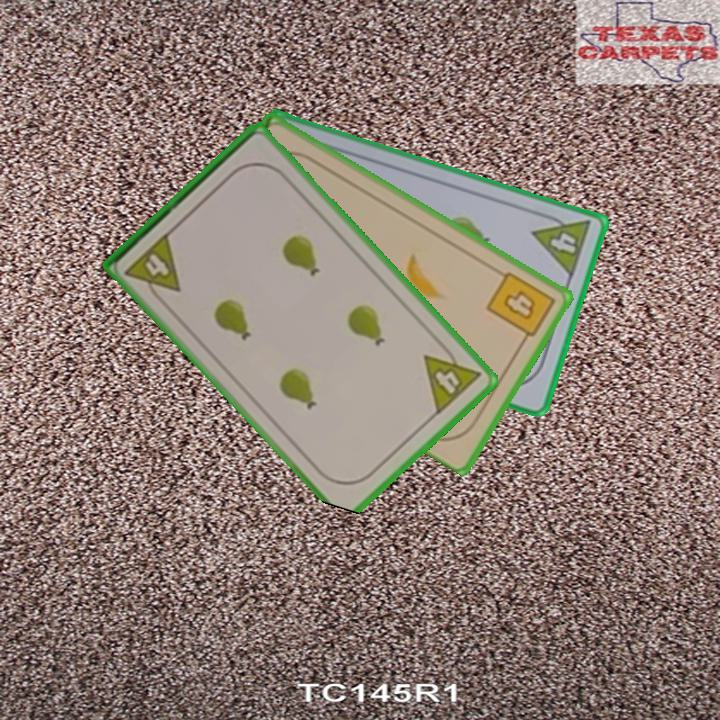4b: (482, 267, 558, 347)
4p: (420, 337, 485, 418), (121, 228, 184, 307), (529, 207, 594, 281)
